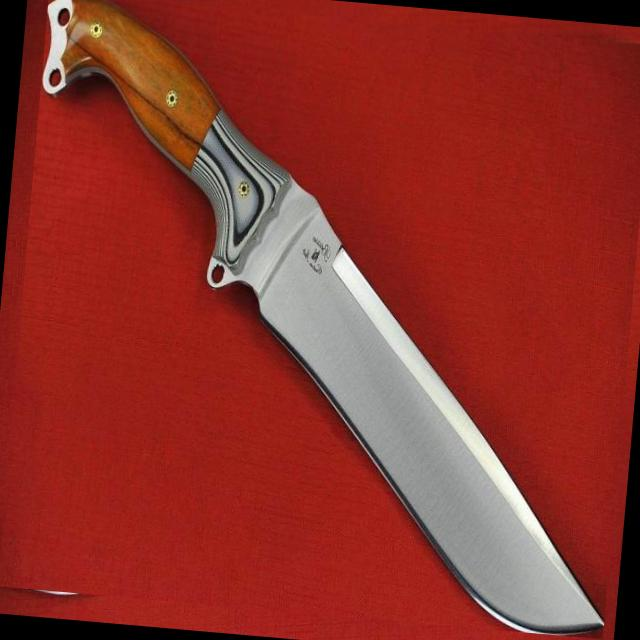Knife: (43, 0, 603, 634)
